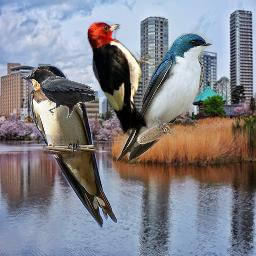Crow: (23, 69, 95, 118)
Swallow: (19, 64, 118, 228), (116, 33, 213, 163)
Woodpecker: (86, 21, 156, 137)
